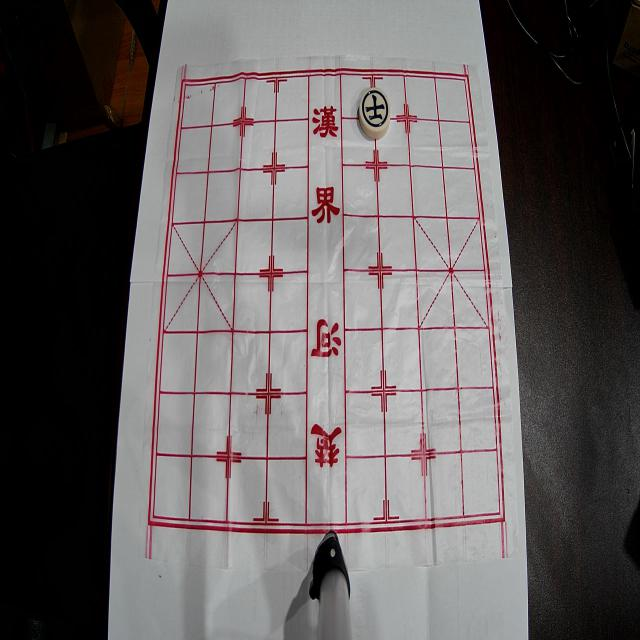black-guard: (359, 88, 391, 139)
